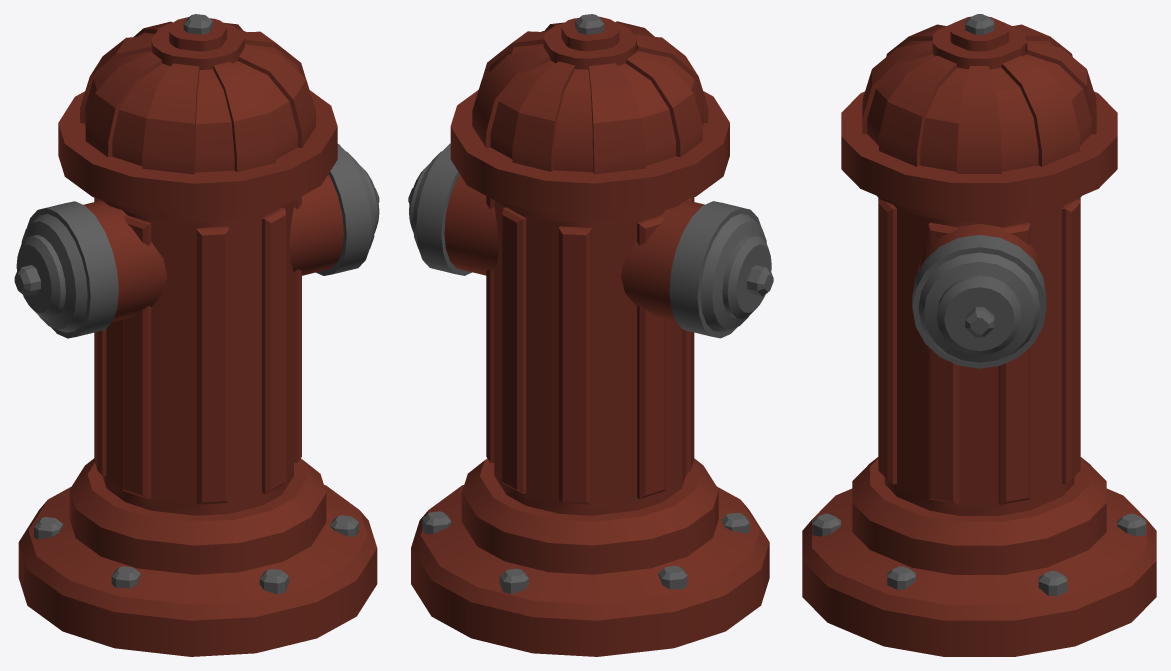
File: Firehydrant.fbx
The picture shows the model from 3 angles, left to right: view 1: azimuth 30°, elevation 25°; view 2: azimuth 150°, elevation 25°; view 3: azimuth 270°, elevation 25°; orthographic projection.
Parts seen in each view (by area): view 1: group5_pasted__group3_pasted__pasted__group2_pasted__pasted_; view 2: group5_pasted__group3_pasted__pasted__group2_pasted__pasted_; view 3: group5_pasted__group3_pasted__pasted__group2_pasted__pasted_.
Part boxes in pixels (bbox=[...]): group5_pasted__group3_pasted__pasted__group2_pasted__pasted_: bbox=[14, 14, 379, 656]; group5_pasted__group3_pasted__pasted__group2_pasted__pasted_: bbox=[408, 14, 773, 656]; group5_pasted__group3_pasted__pasted__group2_pasted__pasted_: bbox=[802, 14, 1156, 656].
Size of the model in its own units: 14.31 by 21.64 by 12.31.
